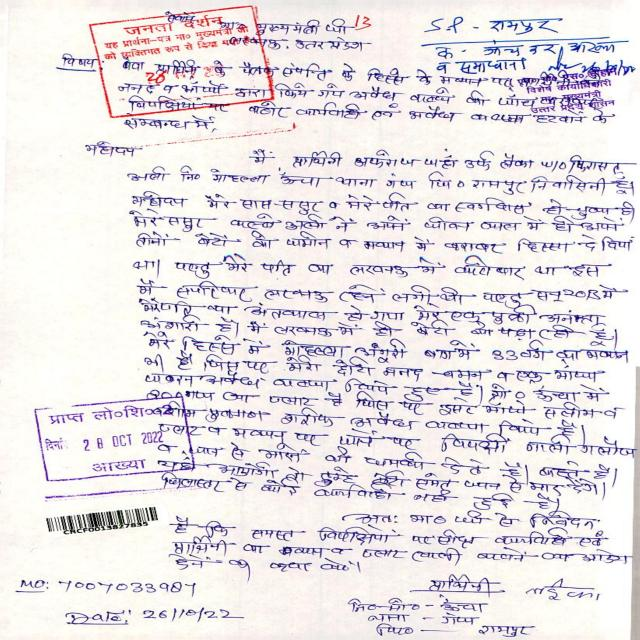antritgovtstamp: (87, 7, 275, 119), (35, 398, 195, 482)
barcode: (39, 508, 166, 536)
signnamestamp: (504, 47, 640, 115)
